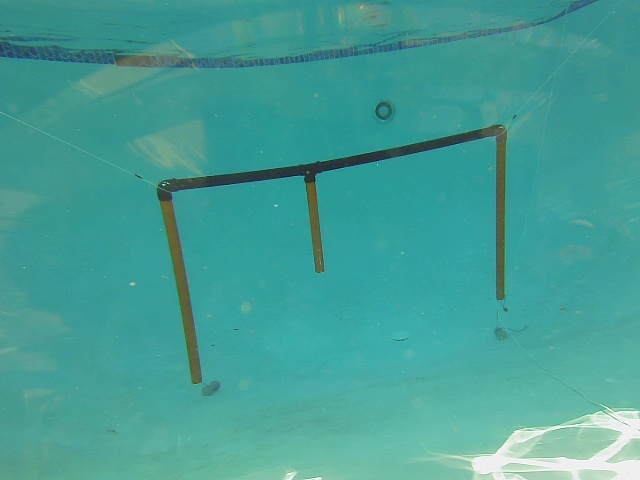Gate: (159, 197, 205, 389), (490, 132, 509, 304), (302, 177, 327, 276)
